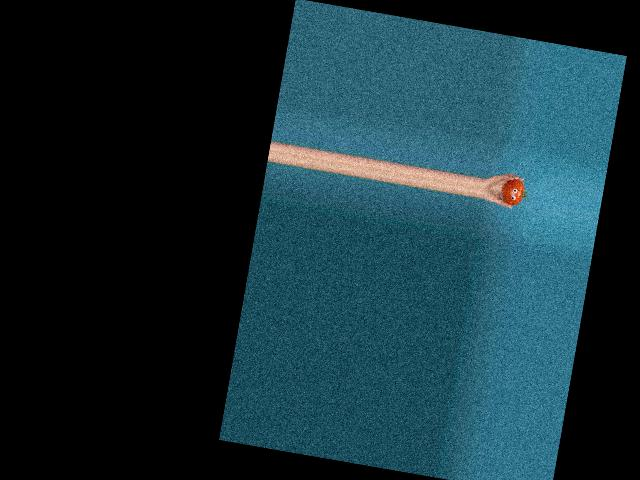tomato: (499, 177, 525, 207)
